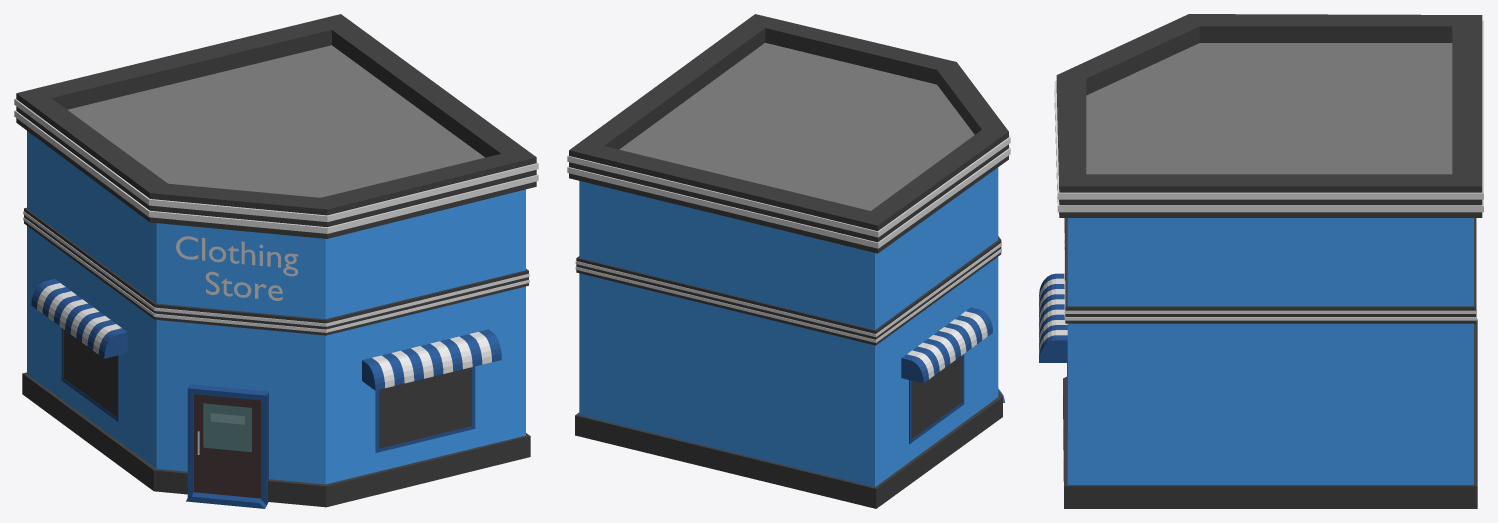
Rendered from Building_ClothesStore.fbx.
3 renders of one model, left to right at view 1: azimuth 30°, elevation 25°; view 2: azimuth 150°, elevation 25°; view 3: azimuth 270°, elevation 25°, orthographic. The views are drawn at different scales.
Visible parts, largest first — view 1: Cube, Text; view 2: Cube; view 3: Cube.
Part boxes in pixels (x1,y1,x2,y2): Cube: (14, 14, 538, 508); Text: (176, 236, 298, 300); Cube: (567, 14, 1010, 508); Cube: (1039, 14, 1483, 508).
Size of the model in its own units: 1052 by 885 by 1095.
